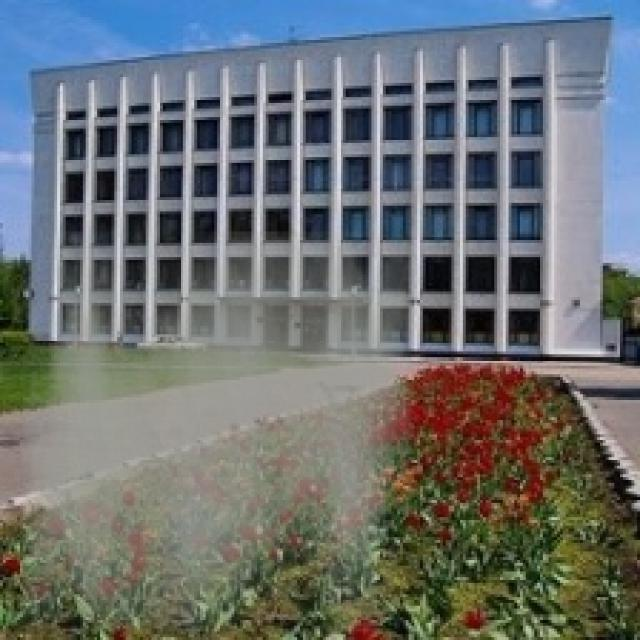smoke: (23, 232, 414, 632)
